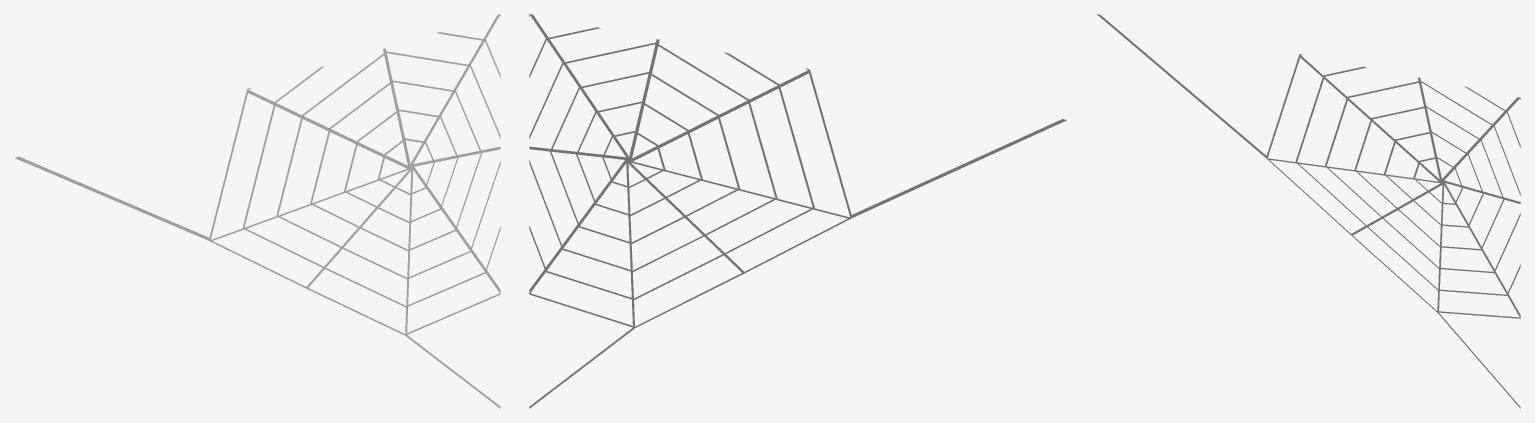
Rendered from kd_stage_135d18_4_79_bounded_piece_0.glb.
3 views of the same model, side by side, from view 1: azimuth 30°, elevation 25°; view 2: azimuth 150°, elevation 25°; view 3: azimuth 330°, elevation 25° (orthographic). The views are drawn at different scales.
Parts seen in each view (by area): view 1: kd_stage_135d18_4_79_bounded_piece_0; view 2: kd_stage_135d18_4_79_bounded_piece_0; view 3: kd_stage_135d18_4_79_bounded_piece_0.
Boxes of the visible parts, <box> form: kd_stage_135d18_4_79_bounded_piece_0: <box>15,14,500,408</box>; kd_stage_135d18_4_79_bounded_piece_0: <box>529,14,1066,408</box>; kd_stage_135d18_4_79_bounded_piece_0: <box>1097,14,1520,408</box>.
Size of the model in its own units: 0.5233 by 0.3854 by 0.0458.
1 material, 1 textured.
